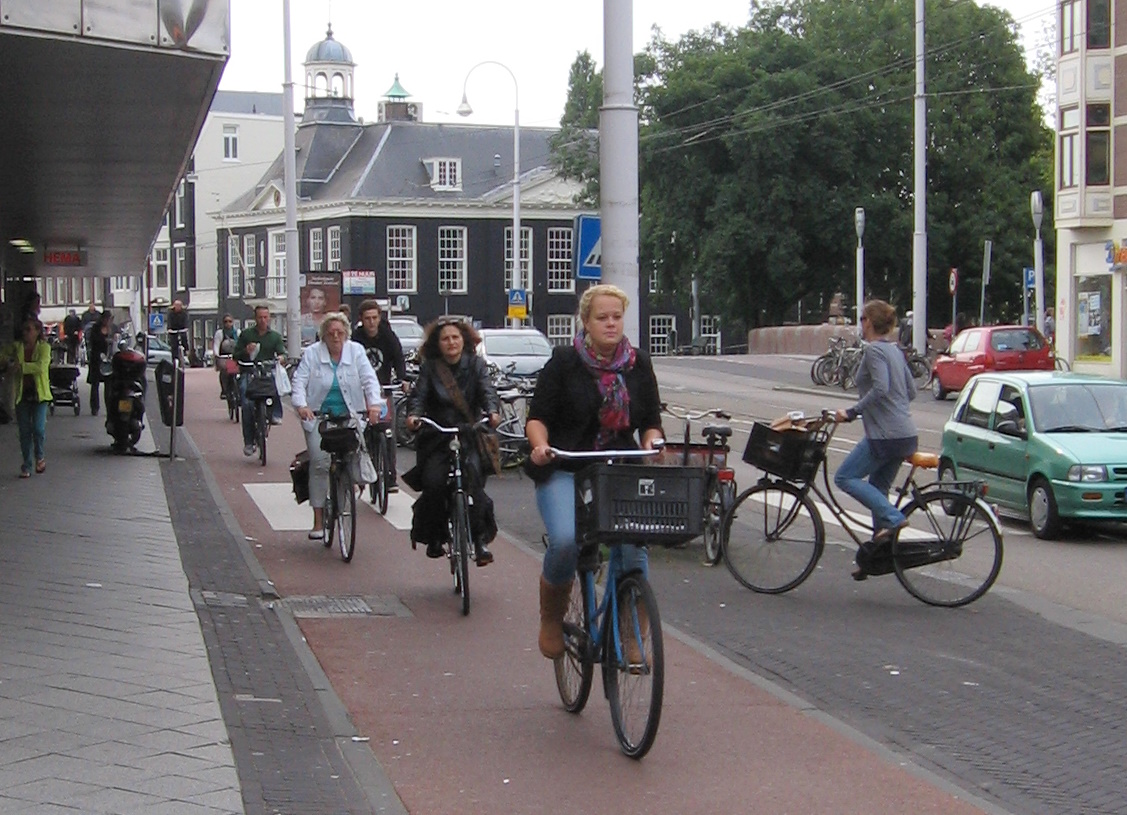commuter: (718, 300, 1010, 609), (524, 286, 702, 766), (403, 319, 509, 617), (287, 309, 386, 570), (228, 307, 288, 464)
